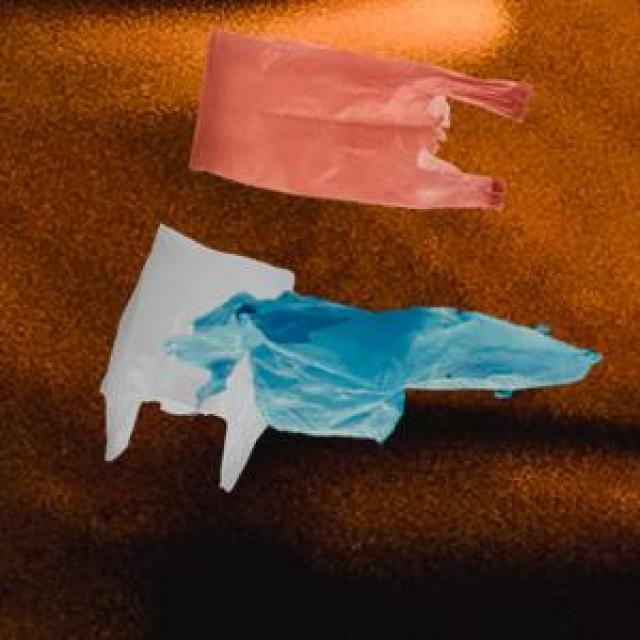plastic: (82, 27, 607, 537)
